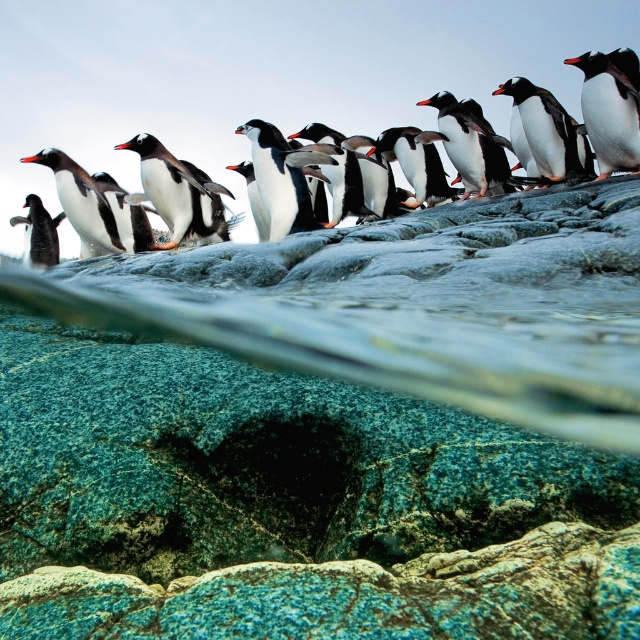Penguin: (96, 124, 231, 250), (230, 118, 346, 230), (560, 49, 640, 179), (22, 143, 116, 252), (285, 120, 381, 226), (415, 92, 502, 202), (370, 121, 461, 216), (498, 83, 579, 176), (457, 92, 516, 196), (348, 133, 415, 224), (95, 166, 155, 250), (177, 156, 229, 240), (224, 168, 275, 244), (12, 196, 64, 270)
